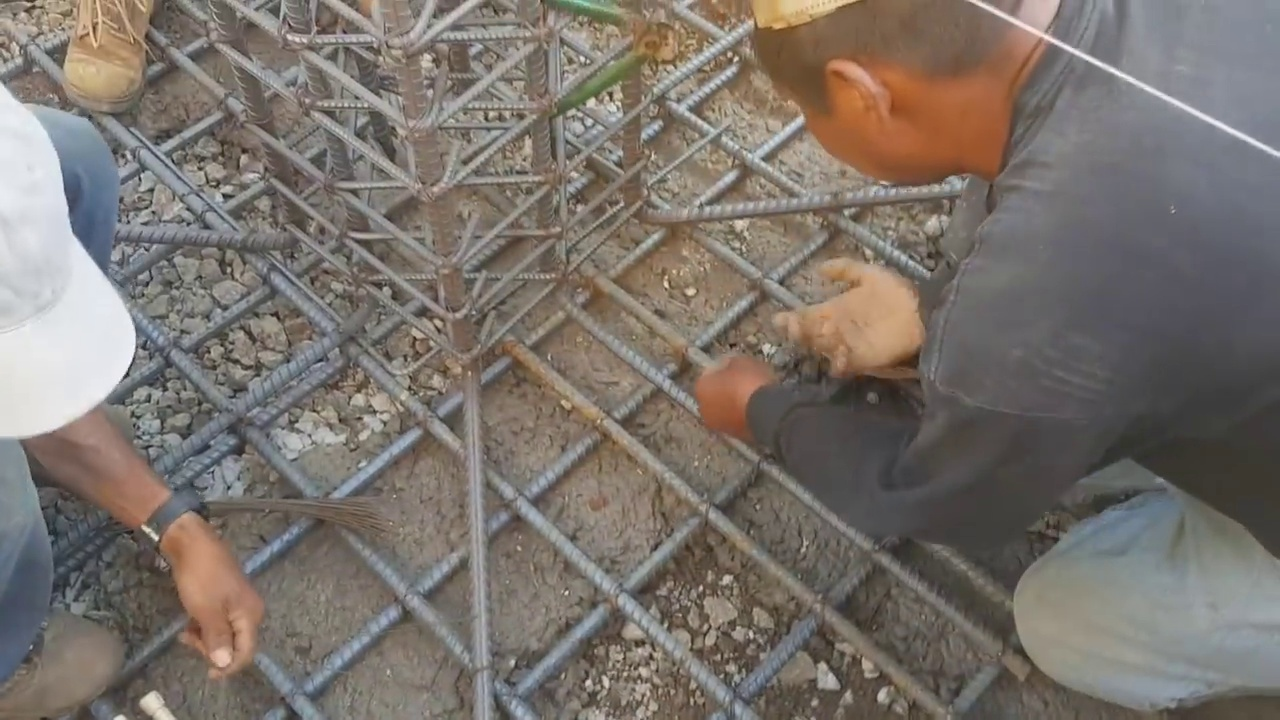helmet-off: (752, 0, 1061, 189), (0, 84, 129, 456)
person: (754, 0, 1277, 717), (0, 95, 262, 720)
